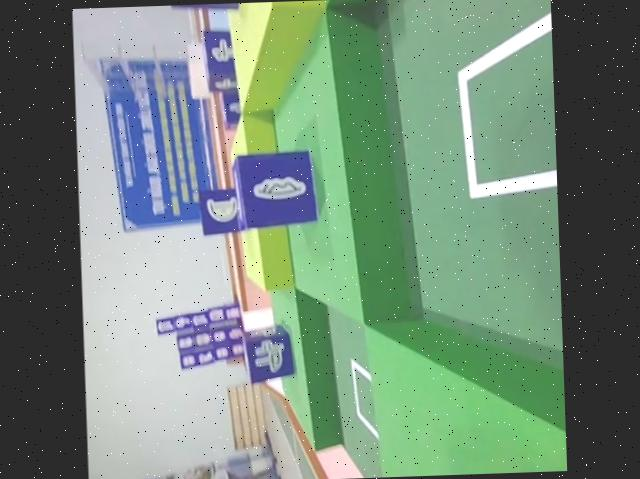R2 Real Blue: (233, 149, 324, 233), (240, 323, 296, 383), (200, 184, 246, 237), (203, 29, 241, 93)
